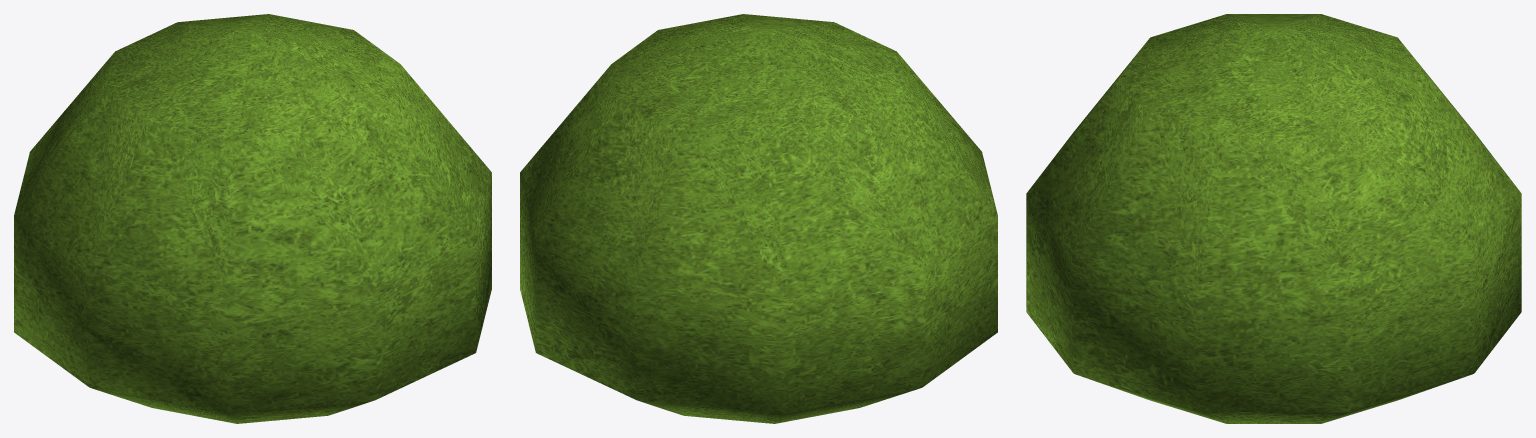
Rendered from grass_tree.FBX.
The picture shows the model from 3 angles, left to right: view 1: azimuth 30°, elevation 25°; view 2: azimuth 150°, elevation 25°; view 3: azimuth 270°, elevation 25°; orthographic projection.
Parts seen in each view (by area): view 1: grasstree212; view 2: grasstree212; view 3: grasstree212.
Boxes of the visible parts, x1,y1,x2,y2 form: grasstree212: (14, 14, 491, 423); grasstree212: (520, 14, 997, 423); grasstree212: (1026, 14, 1521, 423).
Size of the model in its own units: 1542 by 1337 by 1621.
